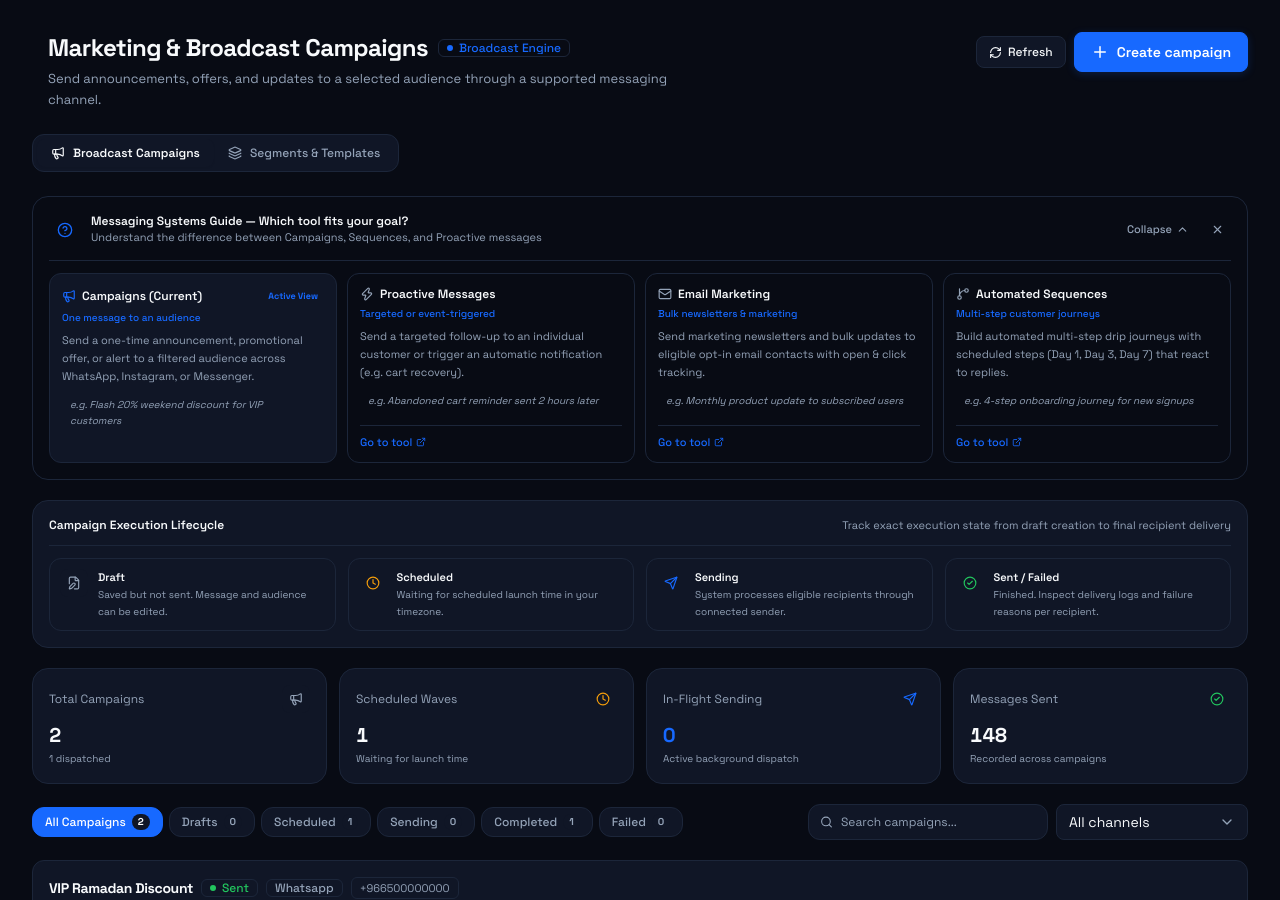
Scenario: campaigns workspace redesign & lifecycle management › opens campaign detail drawer when a campaign card is clicked and fetches delivery logs
Click the text "VIP Ramadan Discount": (121, 888) [49,878,193,898]
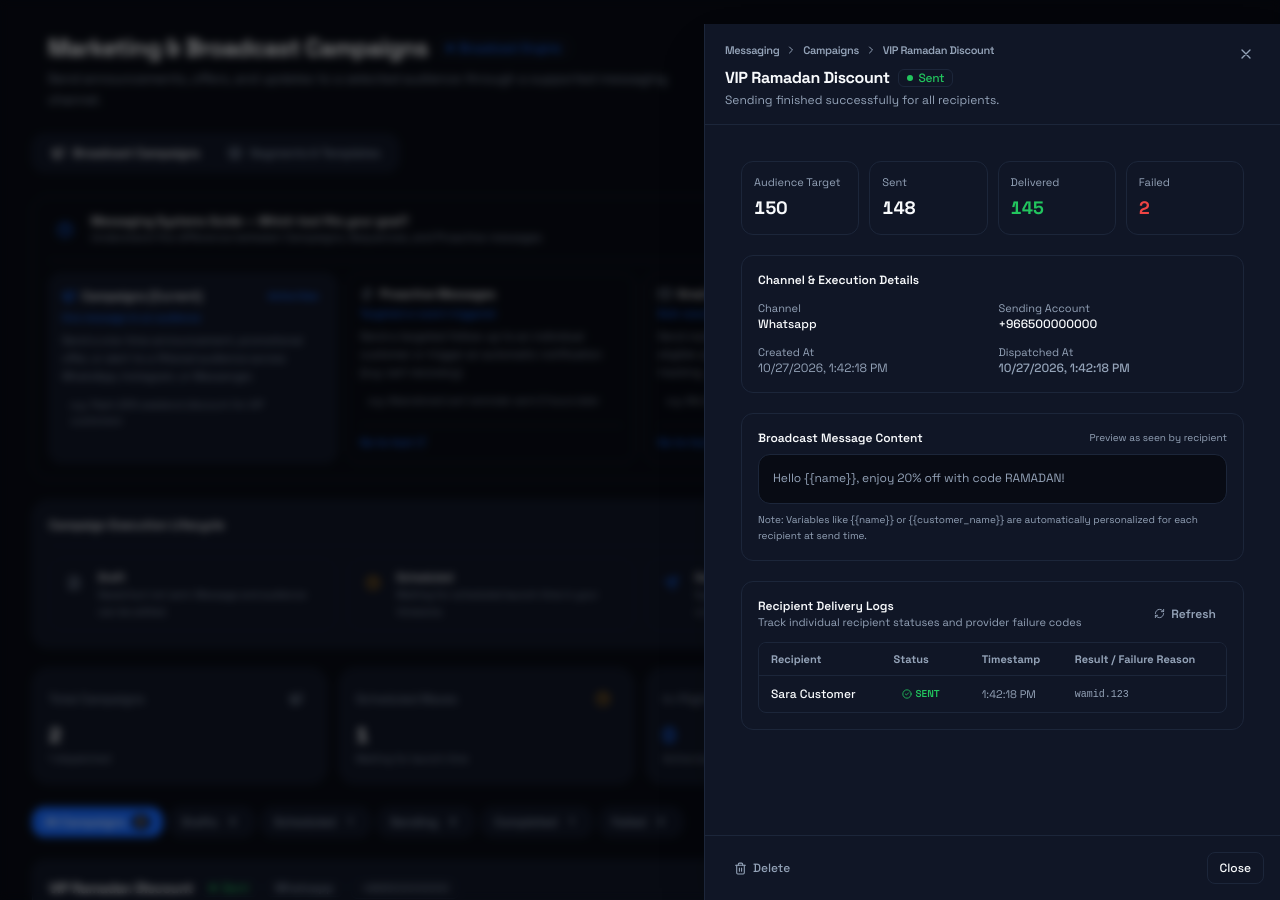
Now the heading "Recipient Delivery Logs" is shown, box [758,598,894,614]
Now the text "Sara Customer" is shown, box [759,675,882,712]
Now the text "wamid.123" is shown, box [1075,688,1129,700]
